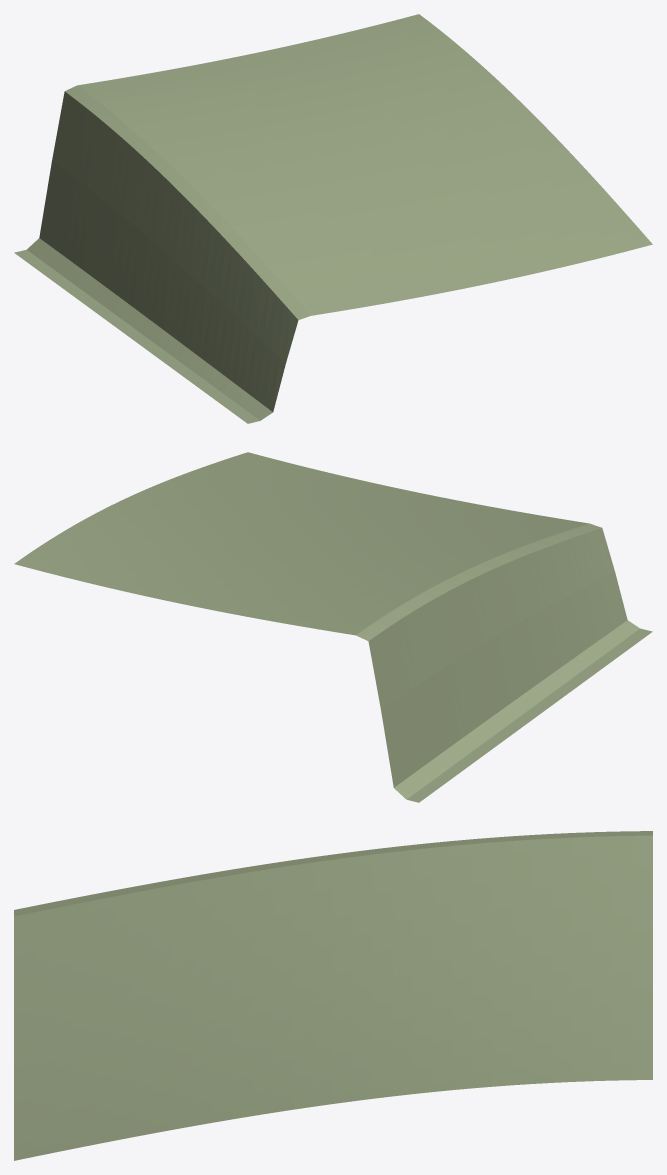
File: valley-8-1.glb
3 views of the same model, one above another, from view 1: azimuth 30°, elevation 25°; view 2: azimuth 150°, elevation 25°; view 3: azimuth 270°, elevation 25° (orthographic). The views are drawn at different scales.
Visible parts, largest first — view 1: valley-8-1; view 2: valley-8-1; view 3: valley-8-1.
Part boxes in pixels (x1,y1,x2,y2): valley-8-1: (14, 14, 652, 423); valley-8-1: (14, 452, 652, 802); valley-8-1: (14, 831, 652, 1160).
Bounding box in the file's own units: 256 × 91.75 × 256.
